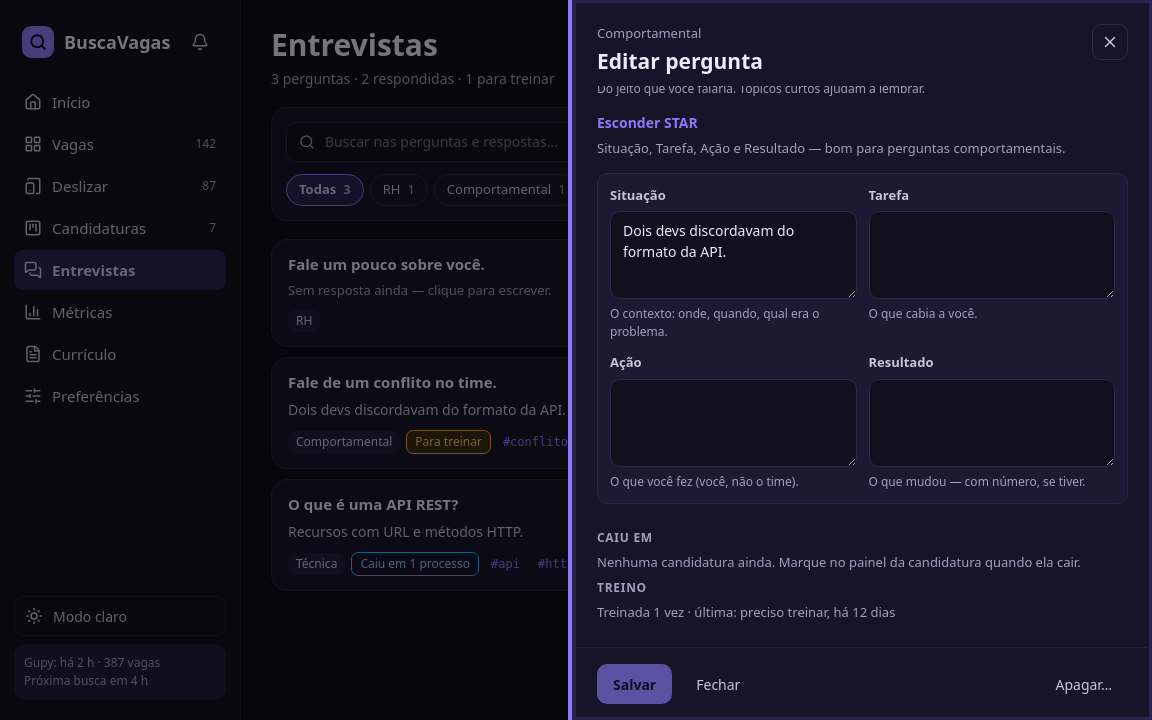
it: Entrevistas › editar: STAR aberto na comportamental, salva só o que mudou de verdade
(page scrolled)
Expected: the text box labelled "Situação" holds "Dois devs discordavam do formato da API.", x1=610 y1=211 x2=856 y2=299
Expected: the button "Salvar" is disabled, x1=597 y1=664 x2=672 y2=704
Type "Entregamos no prazo." into the text box labelled "Resultado". click: (992, 423)
box: x1=868 y1=379 x2=1115 y2=467
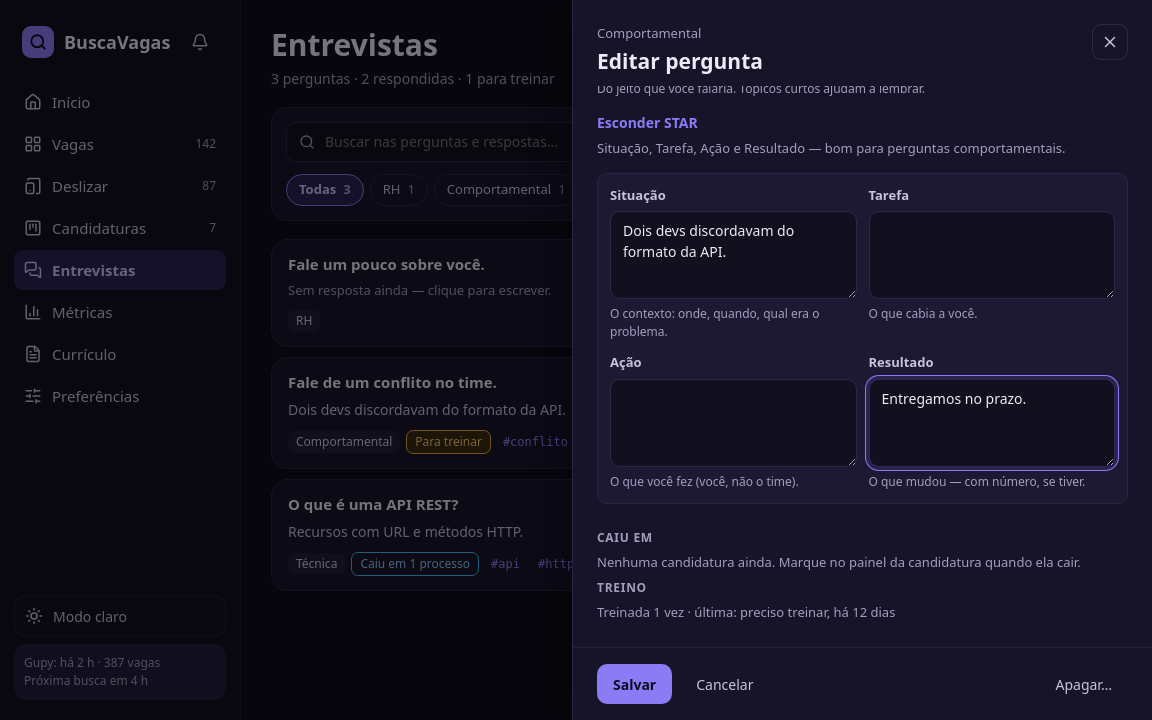
Click the button "Salvar". click: (635, 684)
box: x1=597 y1=664 x2=672 y2=704
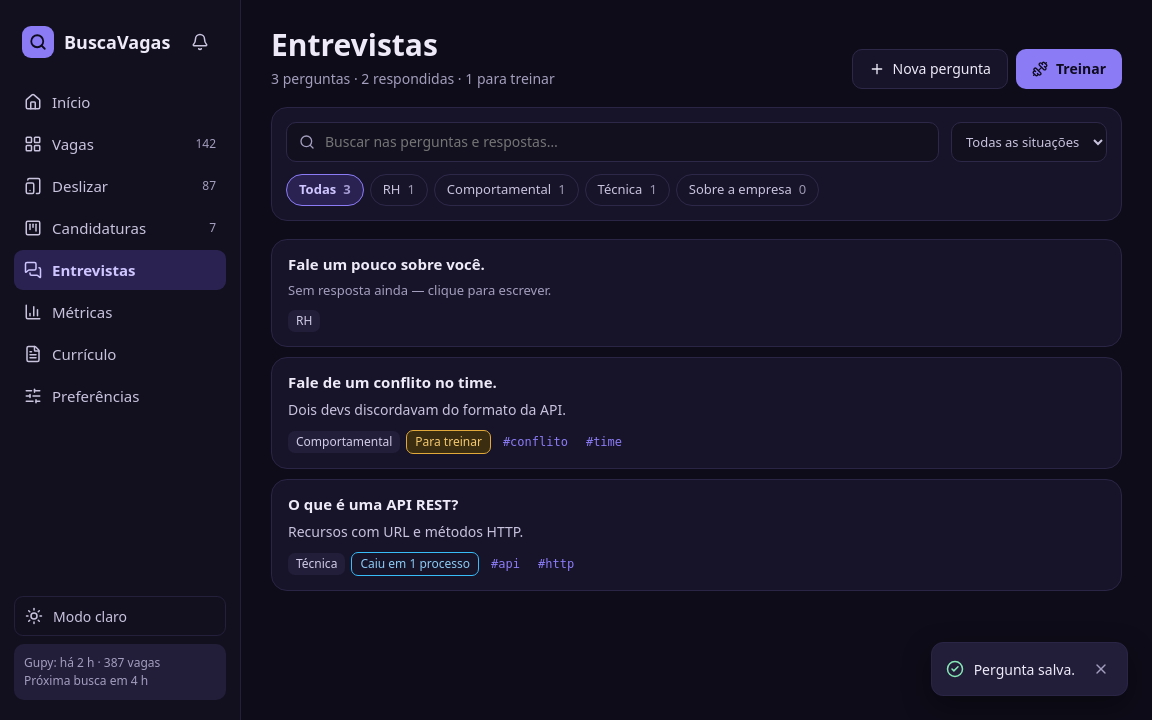
Expected: the dialog is gone
